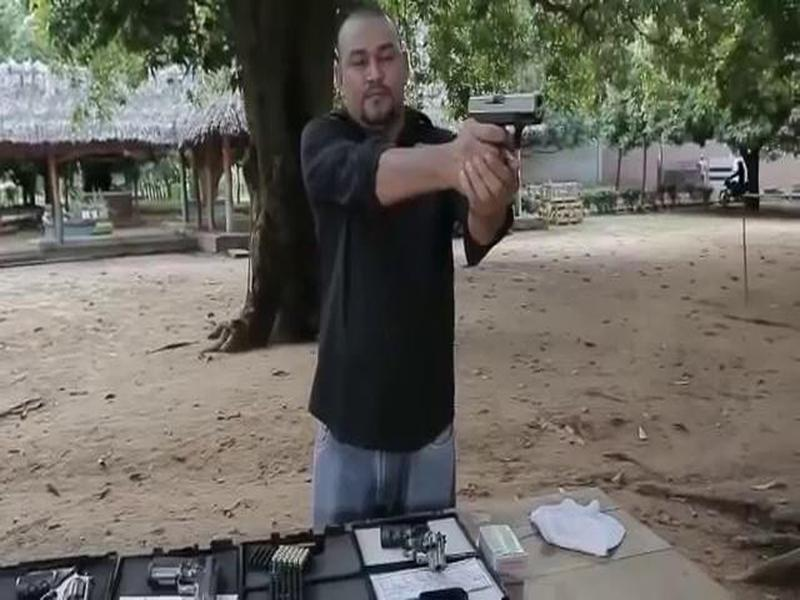Pistola: (467, 80, 575, 170)
